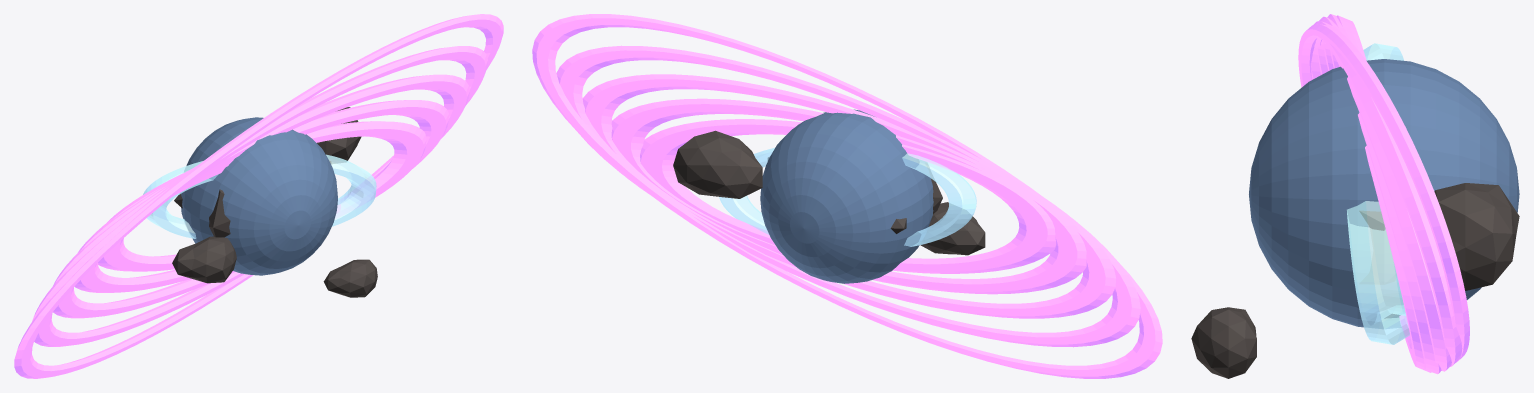
Rendered from skybox_accents.glb.
3 renders of one model, left to right at view 1: azimuth 30°, elevation 25°; view 2: azimuth 150°, elevation 25°; view 3: azimuth 270°, elevation 25°, orthographic. The views are drawn at different scales.
Parts seen in each view (by area): view 1: SkyNebulaRibbon, SkyDistantMoon, SkyAsteroidCluster; view 2: SkyNebulaRibbon, SkyDistantMoon, SkyAsteroidCluster; view 3: SkyDistantMoon, SkyNebulaRibbon, SkyAsteroidCluster.
Part boxes in pixels (<box>): SkyNebulaRibbon: <box>14,14,503,378</box>; SkyDistantMoon: <box>143,117,376,275</box>; SkyAsteroidCluster: <box>172,107,377,297</box>; SkyNebulaRibbon: <box>532,14,1162,378</box>; SkyDistantMoon: <box>719,109,976,283</box>; SkyAsteroidCluster: <box>673,130,985,255</box>; SkyDistantMoon: <box>1249,43,1519,344</box>; SkyNebulaRibbon: <box>1298,14,1469,374</box>; SkyAsteroidCluster: <box>1191,183,1519,378</box>.
Bounding box in the file's own units: 7.73 × 3.41 × 2.42.
